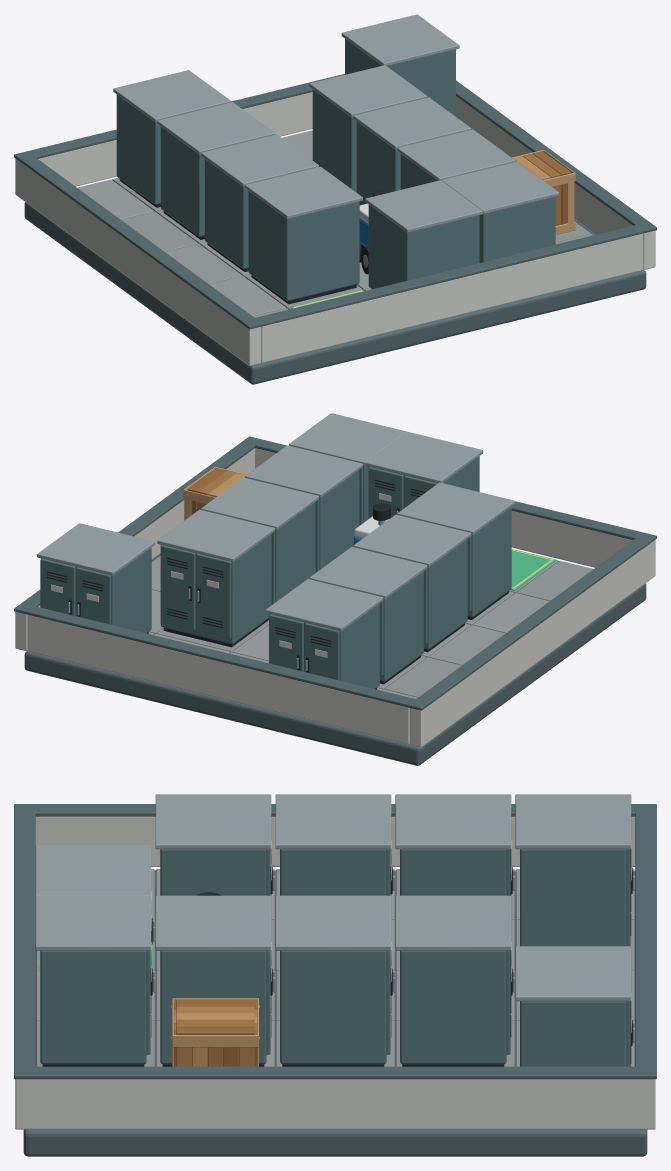
3 renders of one model, top to bottom at view 1: azimuth 30°, elevation 25°; view 2: azimuth 150°, elevation 25°; view 3: azimuth 270°, elevation 25°, orthographic. The views are drawn at different scales.
Parts seen in each view (by area): view 1: Cutaway wall.002, obstacle_0, Floor foundation, obstacle_4, Cutaway wall, obstacle_3, obstacle_2, obstacle_1, obstacle_5, obstacle_8, obstacle_9, obstacle_7 (+14 smaller); view 2: Cutaway wall.003, obstacle_8, Floor foundation, obstacle_9, obstacle_3, Cutaway wall, obstacle_0, obstacle_2, obstacle_1, obstacle_7, obstacle_6, obstacle_4 (+16 smaller); view 3: Cutaway wall.001, Floor foundation, obstacle_5, obstacle_7, obstacle_8, obstacle_3, obstacle_9, obstacle_6, obstacle_1, obstacle_2, obstacle_0, Wall coping.001 (+6 smaller).
Boxes of the visible parts, x1,y1,x2,y2 form: Cutaway wall.002: (261,233,643,363); obstacle_0: (245,166,362,304); Floor foundation: (24,179,646,384); obstacle_4: (365,180,483,289); Cutaway wall: (15,158,261,365); obstacle_3: (113,70,231,207); obstacle_2: (157,102,275,239); obstacle_1: (201,134,318,271); obstacle_5: (441,161,559,262); obstacle_8: (309,65,427,192); obstacle_9: (341,14,459,116); obstacle_7: (353,97,471,205); Cutaway wall.003: (27,615,409,744); obstacle_8: (157,509,275,647); Floor foundation: (24,553,646,765); obstacle_9: (37,523,154,633); obstacle_3: (265,579,383,689); Cutaway wall: (409,540,655,747); obstacle_0: (397,482,515,619); obstacle_2: (309,547,427,684); obstacle_1: (353,514,471,652); obstacle_7: (201,477,318,604); obstacle_6: (245,445,362,572); obstacle_4: (365,431,483,518); Cutaway wall.001: (15,1079,655,1129); Floor foundation: (23,870,647,1156); obstacle_5: (35,895,155,1066); obstacle_7: (275,895,395,1066); obstacle_8: (395,895,515,1066); obstacle_3: (515,794,635,946); obstacle_9: (515,946,635,1066); obstacle_6: (155,895,275,1066); obstacle_1: (275,794,395,895); obstacle_2: (395,794,515,895); obstacle_0: (155,794,275,895); Wall coping.001: (14,1066,656,1079).
Size of the model in its own units: 5.36 by 1.44 by 5.36.
